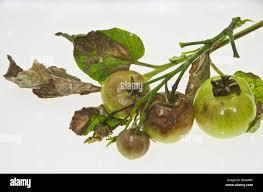tomato early blight: (195, 72, 263, 141), (145, 94, 196, 145), (104, 73, 153, 118), (116, 127, 152, 162)
